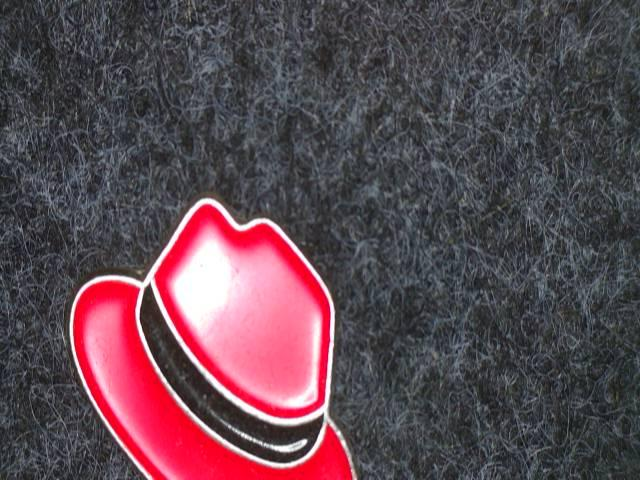Red-Hat: (39, 171, 436, 480)
